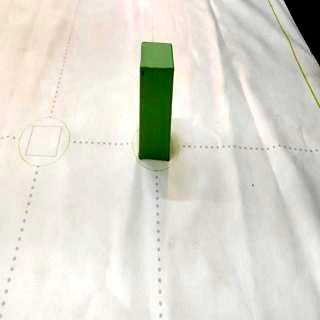greenbox: (138, 38, 174, 160)
